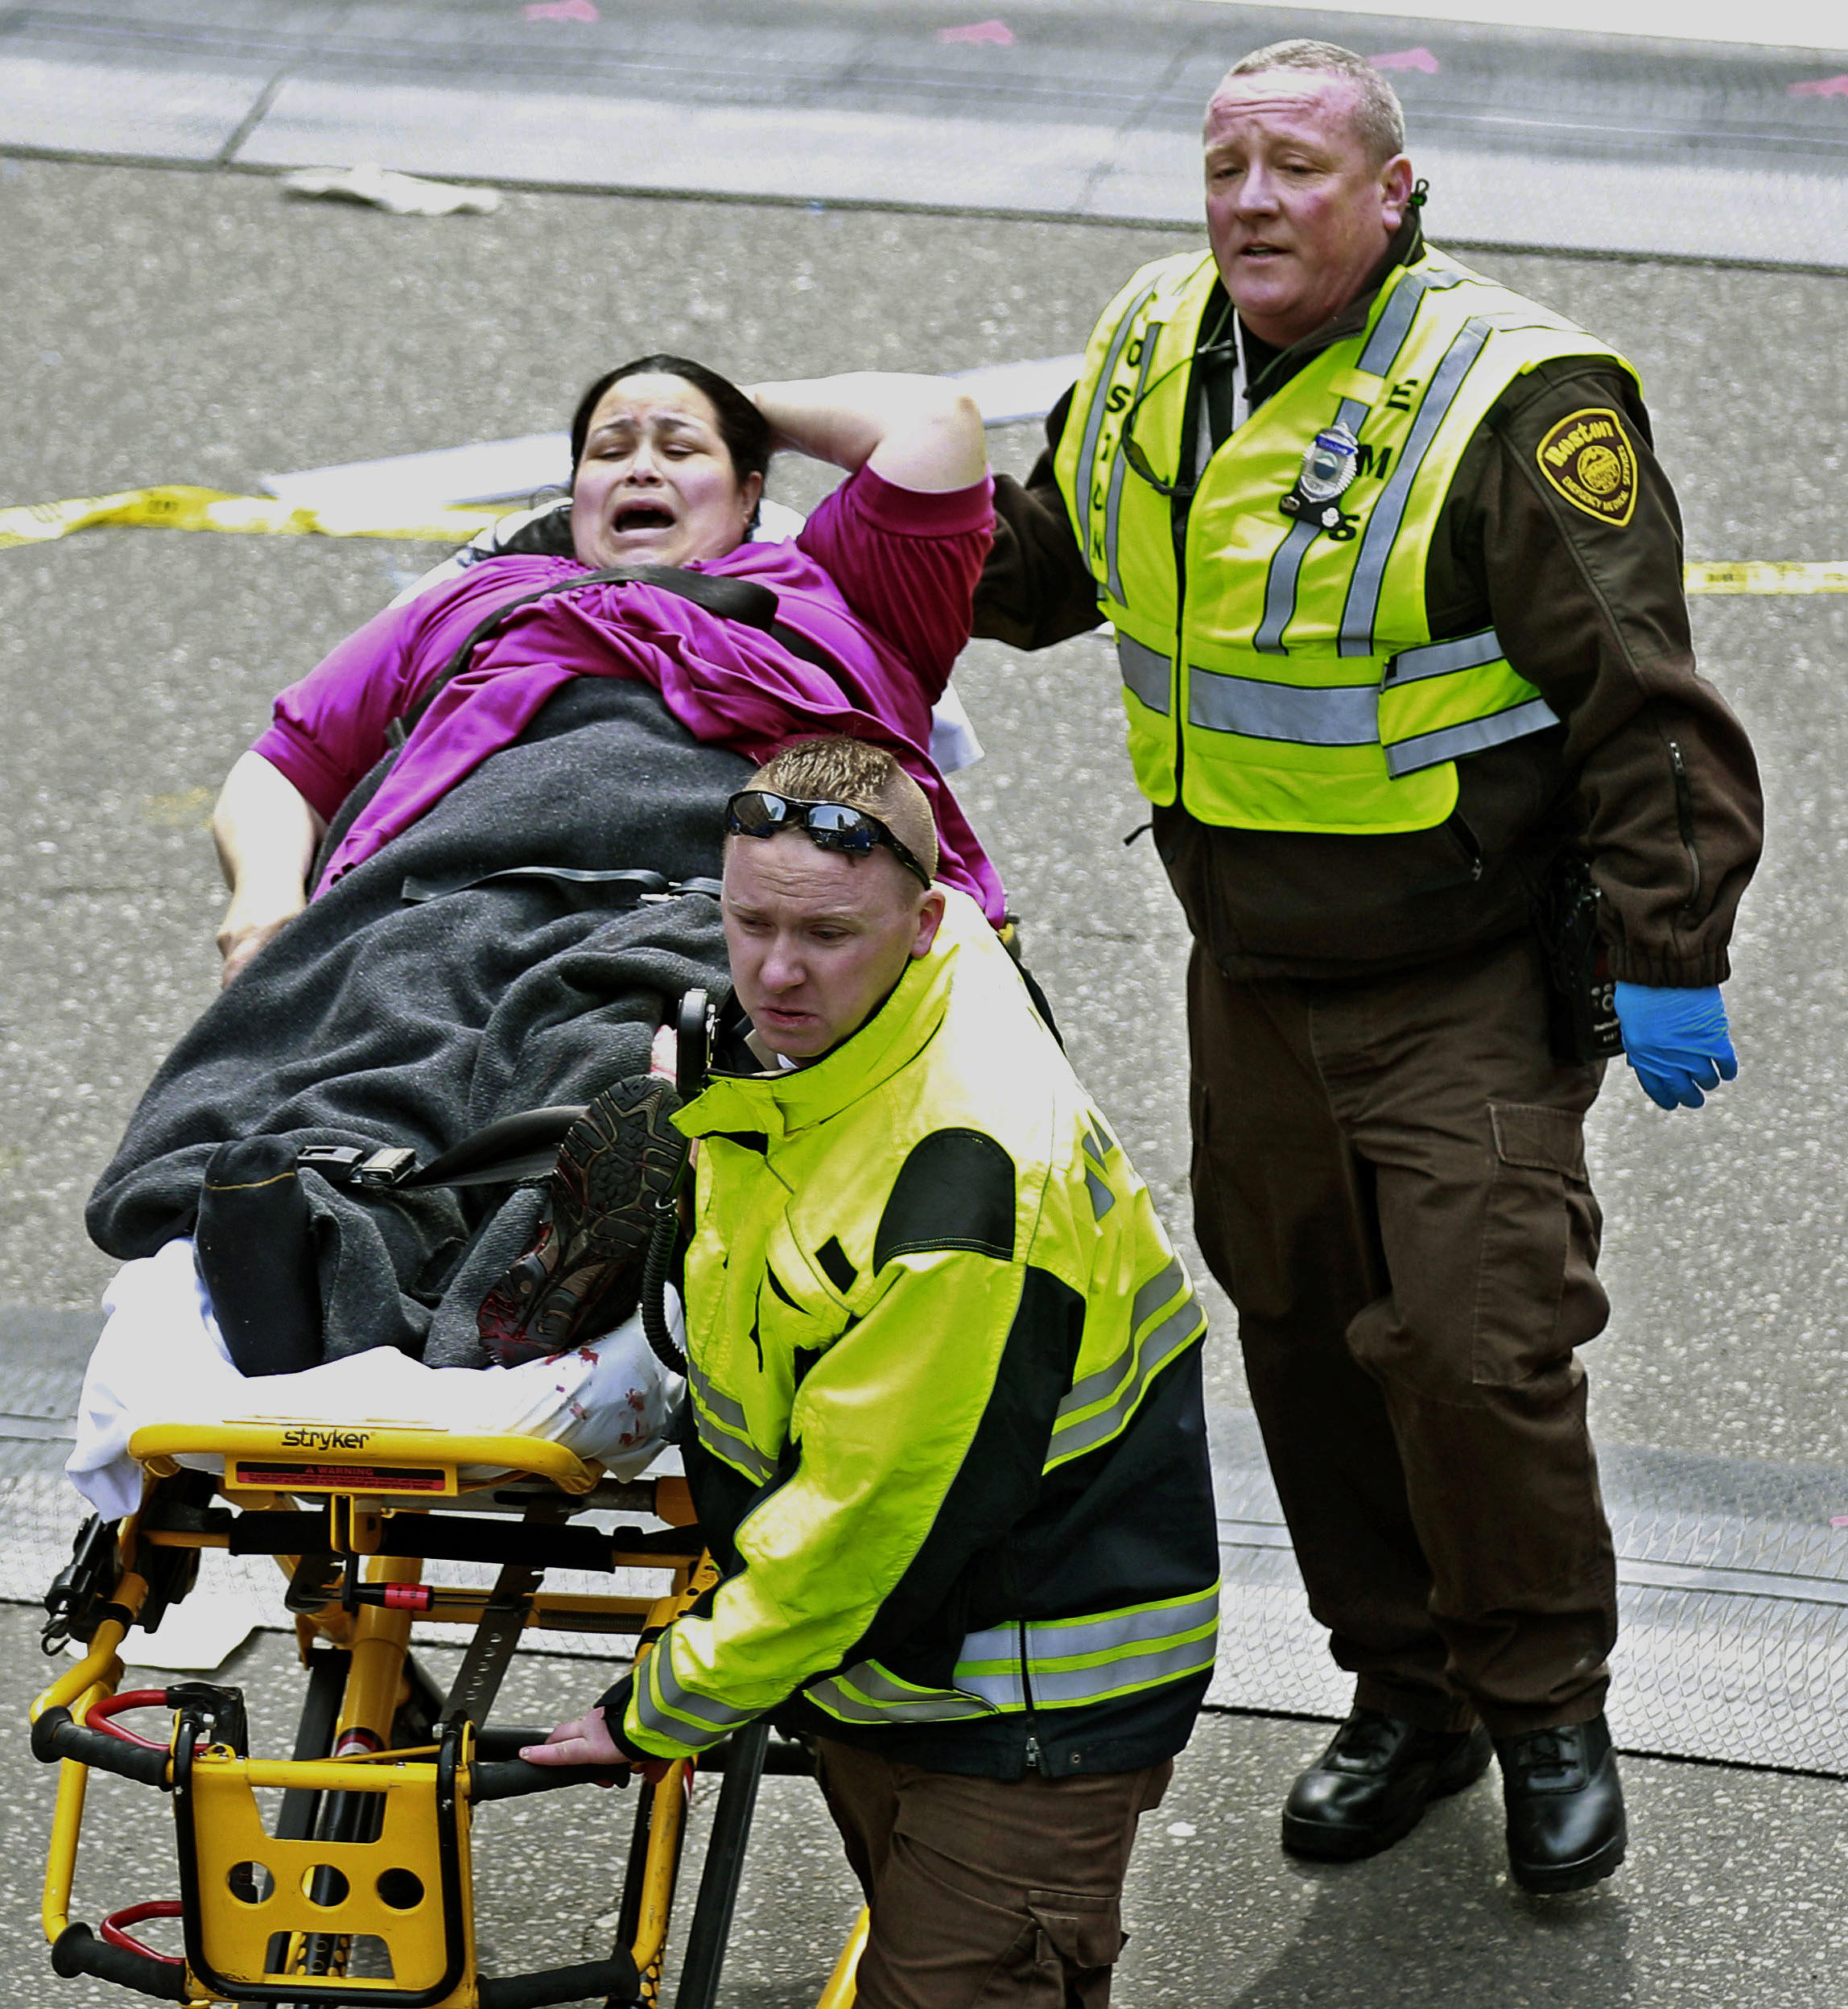Person: (1065, 69, 1719, 1830), (723, 814, 1176, 1870), (411, 361, 794, 1528)
